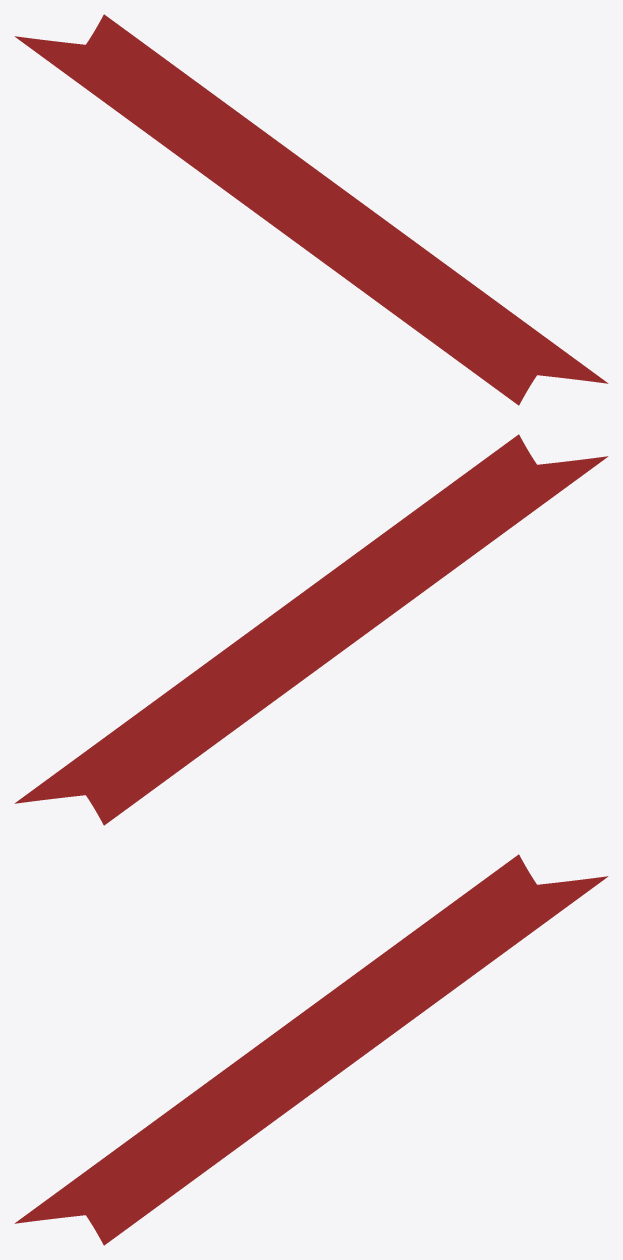
Rendered from carpet.glb.
3 renders of one model, top to bottom at view 1: azimuth 30°, elevation 25°; view 2: azimuth 150°, elevation 25°; view 3: azimuth 330°, elevation 25°, orthographic.
Parts seen in each view (by area): view 1: pPlane1; view 2: pPlane1; view 3: pPlane1.
Part boxes in pixels (x1,y1,x2,y2): pPlane1: [14, 14, 608, 405]; pPlane1: [14, 434, 608, 825]; pPlane1: [14, 854, 608, 1245].
Size of the model in its own units: 2.86 by 0 by 27.84.
1 material, 1 textured.
